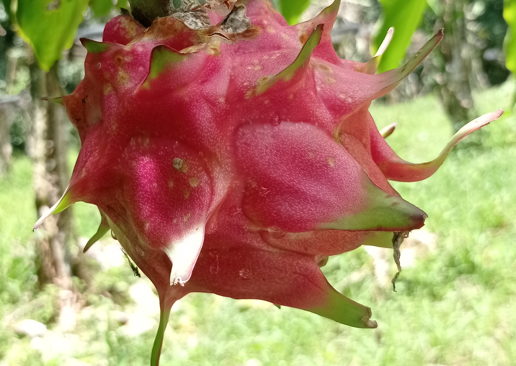Matang: (62, 12, 475, 314)
